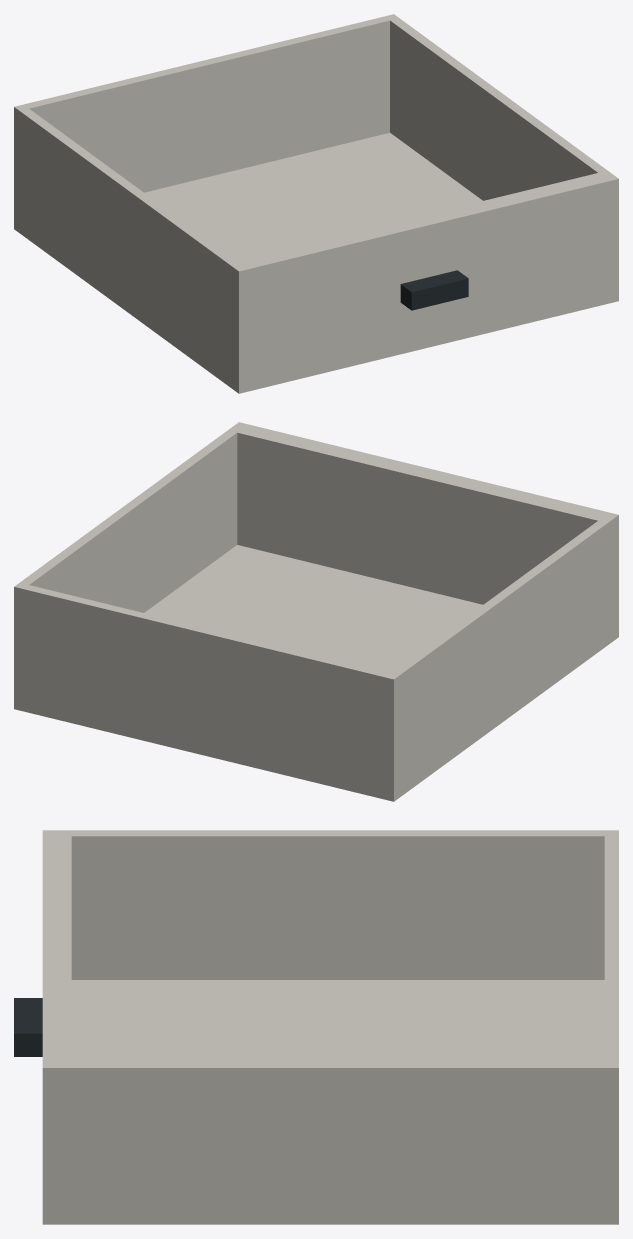
The model's file is white_case.fbx.
3 views of the same model, one above another, from view 1: azimuth 30°, elevation 25°; view 2: azimuth 150°, elevation 25°; view 3: azimuth 270°, elevation 25° (orthographic). The views are drawn at different scales.
Visible parts, largest first — view 1: Cube; view 2: Cube; view 3: Cube.
Boxes of the visible parts, <box> form: Cube: <box>14,14,618,393</box>; Cube: <box>14,422,618,801</box>; Cube: <box>14,830,618,1224</box>.
Bounding box in the file's own units: 195 × 60 × 210.
